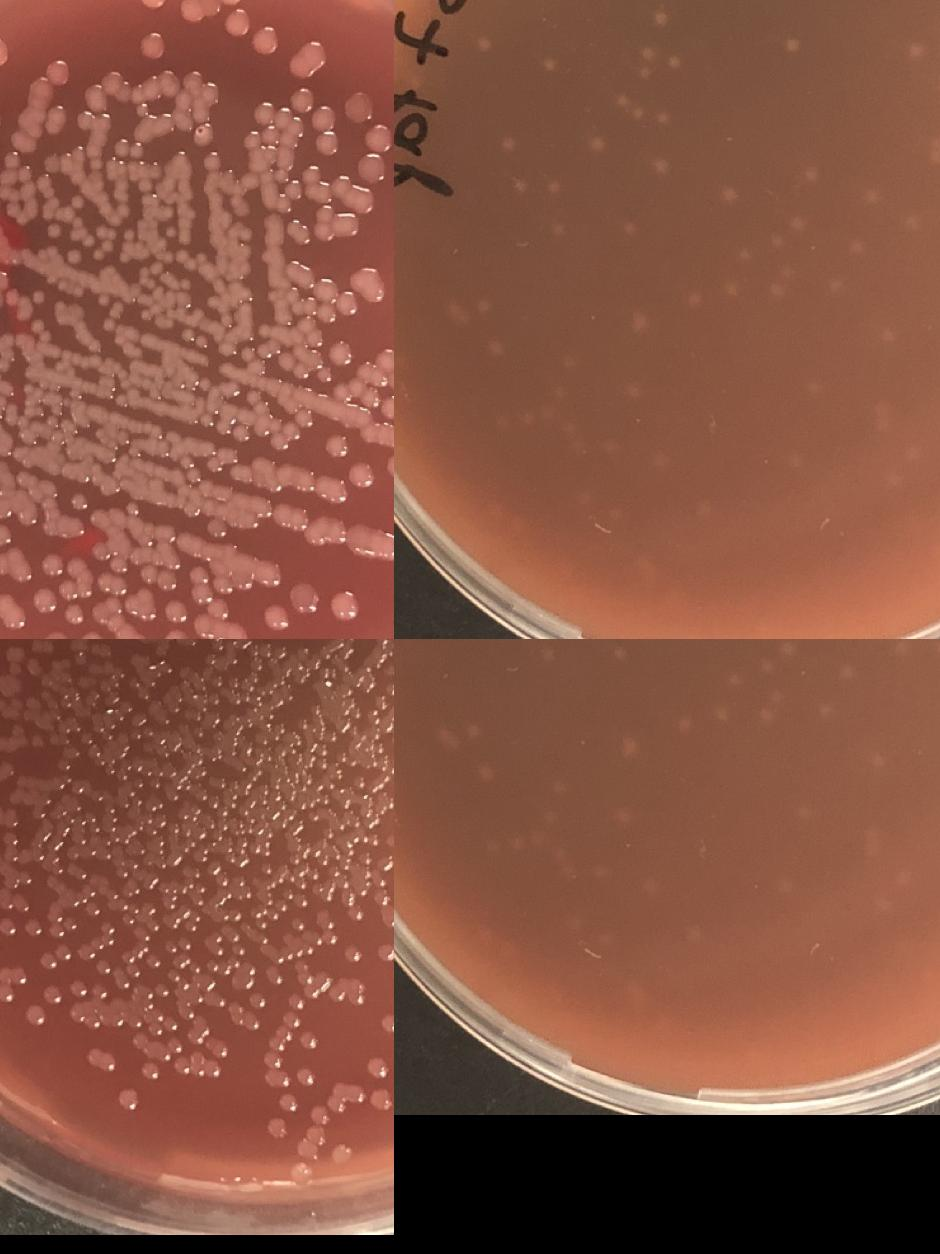pdpiscicida: (609, 88, 647, 126), (486, 504, 524, 539), (476, 929, 514, 964), (509, 824, 550, 854), (519, 400, 560, 428), (636, 40, 658, 84), (868, 404, 892, 426), (822, 272, 846, 294), (690, 496, 714, 518), (626, 314, 650, 336), (470, 32, 494, 54), (812, 697, 836, 719), (680, 920, 704, 942), (616, 739, 640, 761), (622, 376, 644, 399), (554, 375, 576, 398), (774, 873, 796, 896), (754, 706, 776, 729), (751, 656, 773, 679), (641, 872, 663, 895), (546, 774, 568, 797), (858, 830, 882, 851), (906, 37, 928, 59), (876, 322, 898, 344), (860, 184, 882, 206), (785, 214, 807, 236), (784, 448, 806, 470), (780, 35, 802, 57), (774, 260, 796, 282), (764, 282, 786, 304), (761, 232, 783, 254), (734, 244, 756, 266), (725, 276, 747, 298), (718, 182, 740, 204), (683, 291, 705, 313), (664, 54, 686, 76), (651, 448, 673, 470), (651, 8, 673, 30), (650, 155, 672, 177), (615, 216, 637, 238), (600, 434, 622, 456), (586, 132, 608, 154), (556, 350, 578, 372), (555, 416, 577, 438), (544, 216, 566, 238), (540, 177, 562, 199), (537, 52, 559, 74), (508, 175, 530, 197), (496, 132, 518, 154), (483, 340, 505, 362), (472, 300, 494, 322), (446, 298, 468, 320), (890, 867, 912, 889), (866, 747, 888, 769), (836, 660, 858, 682), (792, 800, 814, 822), (724, 669, 746, 691), (715, 701, 737, 723), (673, 716, 695, 738), (612, 802, 634, 824), (605, 640, 627, 662), (590, 859, 612, 881), (545, 841, 567, 863), (544, 800, 566, 822), (534, 642, 556, 664), (473, 765, 495, 787), (436, 723, 458, 745), (901, 442, 922, 464), (898, 211, 920, 232), (803, 163, 825, 184), (802, 375, 824, 396), (654, 111, 676, 132), (775, 639, 797, 660), (462, 725, 483, 747), (846, 236, 868, 256), (764, 686, 786, 706), (922, 149, 940, 171), (888, 639, 910, 656)
vangil: (296, 1081, 364, 1160), (264, 992, 304, 1088), (152, 966, 181, 1000), (86, 1048, 116, 1073), (7, 965, 28, 985), (366, 1058, 386, 1078), (343, 944, 363, 964), (298, 1030, 318, 1050), (266, 1118, 286, 1138), (240, 1012, 260, 1032), (140, 1061, 160, 1081), (117, 1088, 137, 1108), (22, 918, 42, 938), (25, 1006, 44, 1026), (370, 1092, 390, 1110), (332, 1144, 350, 1164), (296, 1066, 314, 1086), (292, 1162, 310, 1182), (158, 1014, 178, 1032), (88, 643, 111, 658), (204, 1060, 223, 1078), (377, 943, 394, 963), (278, 1094, 296, 1112), (246, 990, 264, 1008), (172, 1056, 190, 1074), (164, 1037, 182, 1055), (93, 958, 111, 976), (76, 944, 94, 962), (68, 980, 86, 998), (139, 900, 157, 917), (69, 1004, 87, 1021), (146, 954, 164, 970), (112, 976, 130, 992), (380, 1013, 394, 1033), (0, 984, 12, 1004), (382, 912, 394, 930), (0, 765, 8, 785), (75, 653, 87, 665)
vharveyi: (239, 88, 336, 148), (0, 150, 37, 221), (272, 281, 334, 323), (174, 114, 215, 152), (357, 383, 394, 423), (81, 226, 118, 262), (178, 0, 241, 21), (92, 596, 124, 631), (0, 594, 26, 631), (34, 550, 66, 580), (274, 169, 303, 202), (362, 124, 394, 152), (348, 266, 380, 294), (258, 605, 290, 633), (124, 587, 154, 616), (249, 559, 280, 587), (273, 504, 306, 530), (324, 340, 354, 368), (288, 584, 318, 612), (28, 586, 58, 614), (4, 292, 32, 322), (112, 138, 148, 160), (344, 94, 372, 122), (330, 591, 358, 619), (270, 422, 298, 450), (248, 28, 276, 54), (161, 596, 188, 622), (369, 533, 394, 561), (347, 462, 373, 488), (298, 41, 324, 67), (224, 11, 250, 37), (138, 33, 164, 59), (44, 59, 70, 85), (371, 346, 394, 374), (201, 625, 247, 639), (96, 574, 125, 594), (256, 338, 280, 358), (301, 163, 319, 187), (202, 455, 226, 472), (0, 346, 15, 373), (315, 204, 333, 224), (76, 110, 94, 130), (237, 172, 259, 188), (206, 518, 225, 536), (0, 522, 13, 548), (336, 294, 354, 312), (326, 438, 344, 456), (252, 401, 270, 419), (208, 598, 226, 616), (200, 83, 218, 101), (184, 70, 202, 88), (174, 93, 192, 111), (156, 572, 174, 590), (123, 500, 141, 518), (102, 72, 120, 90), (86, 90, 104, 108), (194, 584, 211, 602), (142, 80, 160, 97), (294, 410, 312, 426), (66, 248, 84, 264), (229, 466, 246, 482), (69, 493, 86, 509), (160, 630, 189, 639), (41, 630, 70, 639), (190, 567, 206, 583), (138, 565, 154, 581), (92, 544, 108, 560), (32, 287, 48, 303), (332, 386, 348, 401), (287, 329, 302, 345), (234, 424, 249, 440), (69, 194, 86, 208), (31, 319, 46, 334), (316, 366, 330, 382), (290, 366, 306, 380), (216, 298, 230, 314), (193, 252, 208, 266), (110, 558, 125, 572), (46, 223, 60, 238), (78, 631, 104, 639), (177, 277, 191, 291), (163, 224, 177, 238), (120, 228, 134, 242), (70, 216, 84, 230), (66, 608, 80, 622), (138, 0, 165, 7), (100, 318, 114, 330)
